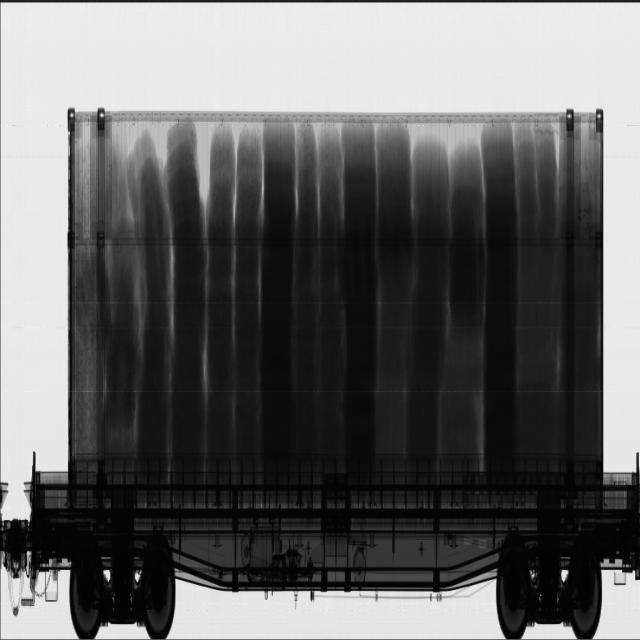clothes: (166, 117, 599, 467)
textiles: (75, 128, 171, 472)
